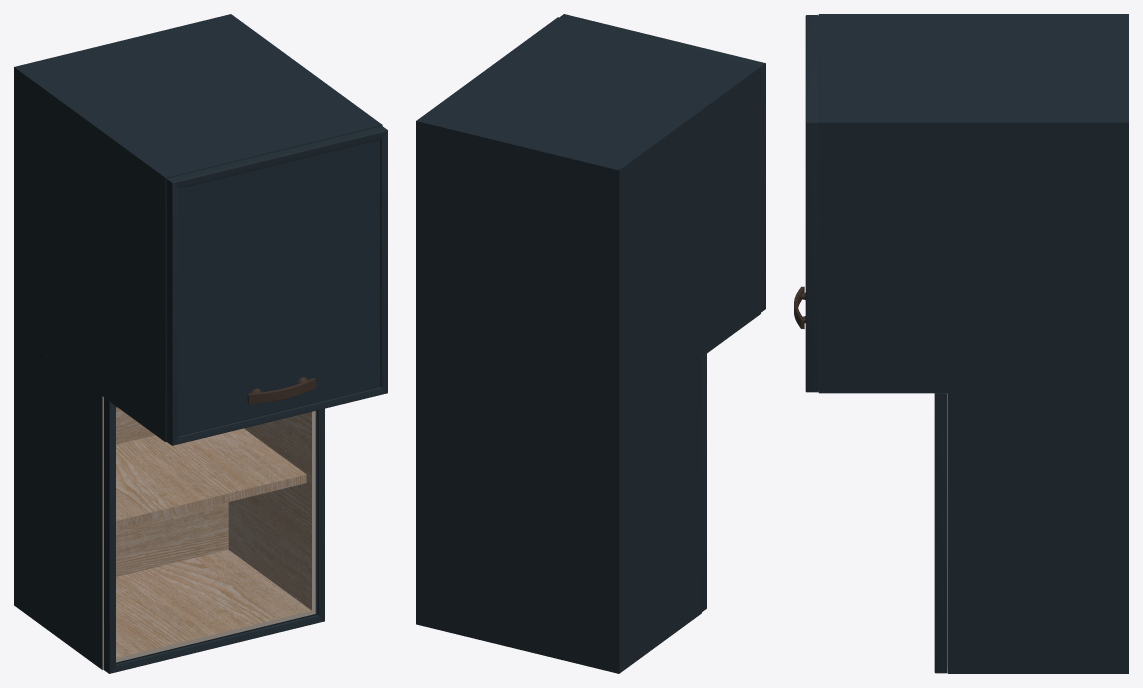
File: default_top.gltf
3 views of the same model, side by side, from view 1: azimuth 30°, elevation 25°; view 2: azimuth 150°, elevation 25°; view 3: azimuth 270°, elevation 25° (orthographic). The views are drawn at different scales.
Parts seen in each view (by area): view 1: Rectangle027, Box8222873, Box8222893, Box8222893.001, Box8222882, Rectangle047, Rectangle047.001, 10407_Door_Knobs_ Pulls_v1_max2009_SG_iteration-2.001; view 2: Rectangle027, Box8222873, Rectangle047, Rectangle047.001; view 3: Rectangle027, Box8222873, Rectangle047, Rectangle047.001.
Part boxes in pixels (x1,y1,x2,y2): Rectangle027: [14, 14, 382, 442]; Box8222873: [14, 331, 315, 670]; Box8222893: [179, 139, 379, 435]; Box8222893.001: [116, 407, 316, 662]; Box8222882: [116, 428, 306, 529]; Rectangle047: [166, 126, 387, 445]; Rectangle047.001: [103, 397, 324, 673]; 10407_Door_Knobs_ Pulls_v1_max2009_SG_iteration-2.001: [247, 377, 316, 404]; Rectangle027: [416, 17, 760, 417]; Box8222873: [416, 357, 701, 673]; Rectangle047: [559, 14, 765, 312]; Rectangle047.001: [702, 354, 706, 611]; Rectangle027: [818, 14, 1128, 393]; Box8222873: [947, 393, 1128, 673]; Rectangle047: [805, 15, 818, 392]; Rectangle047.001: [934, 393, 947, 673].
Bounding box in the file's own units: 0.481 × 1.14 × 0.6276.
Materials: 9 (2 with a texture image).
